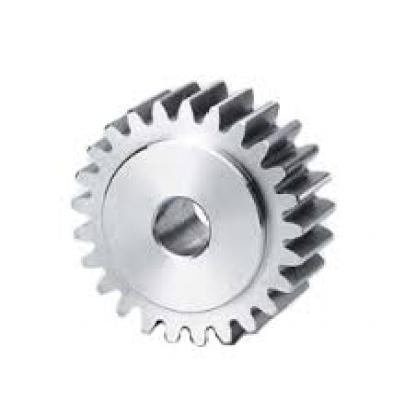FOD: (60, 51, 343, 358)
